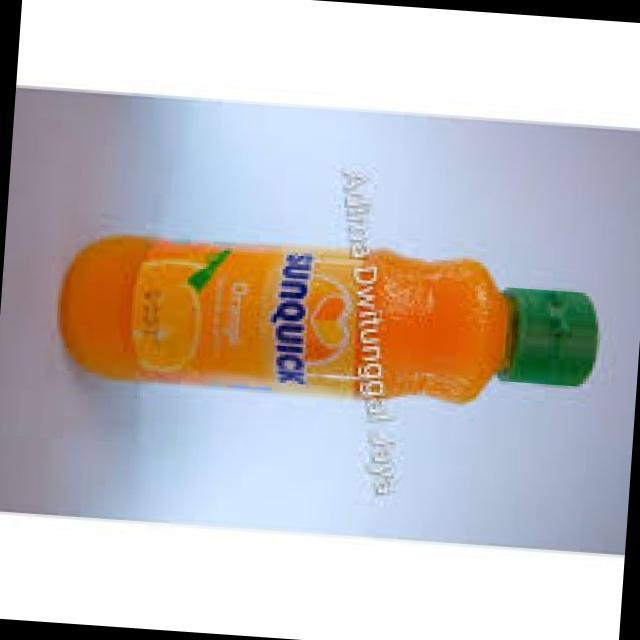good: (26, 150, 618, 470)
